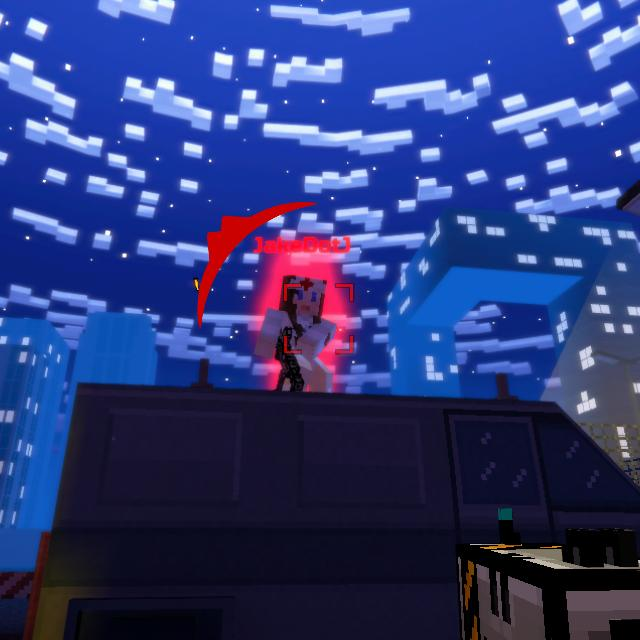Enemy: (254, 277, 335, 395)
